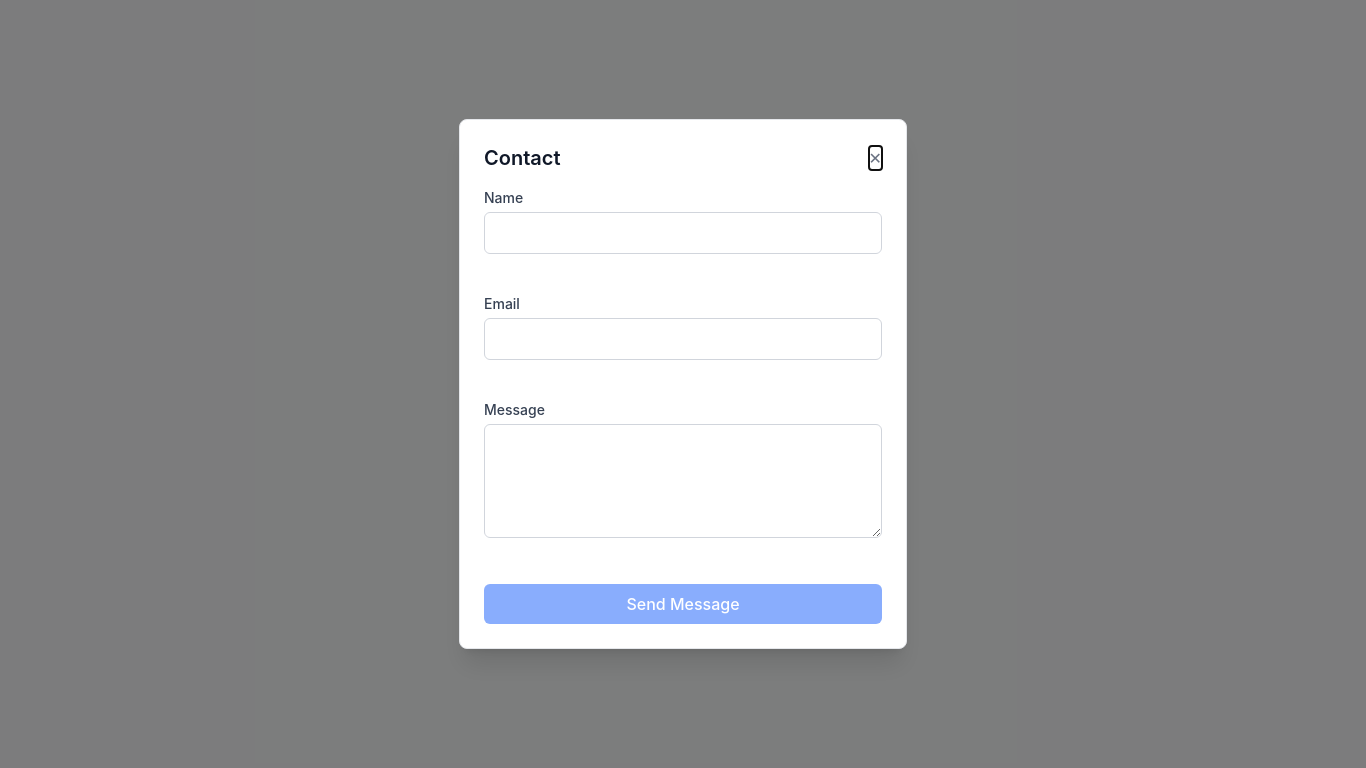
Test: ContactModal › submits form successfully with mock fetch
The image size is (1366, 768).
Type "Test User" into the field labelled "Name".
click(683, 233); type("Test User")  # box [484, 212, 882, 254]
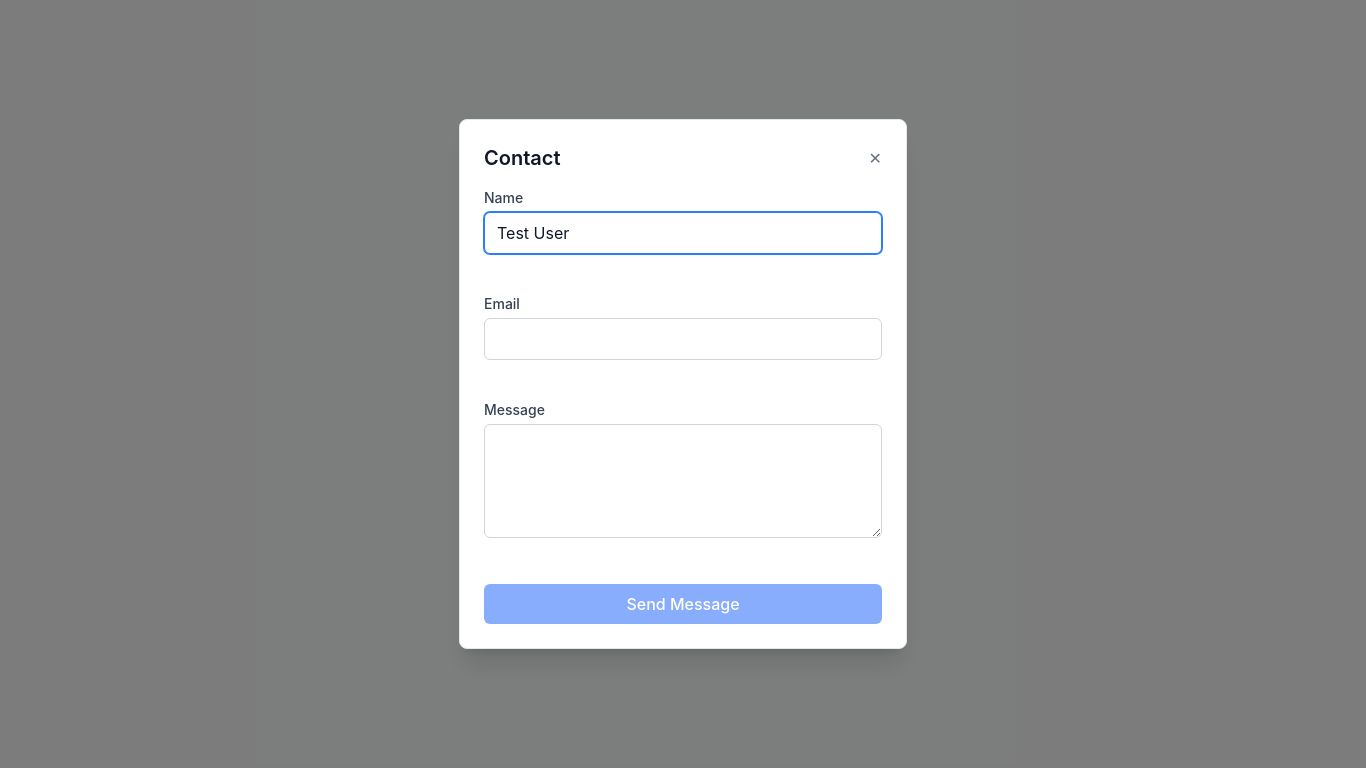
Type "test@example.com" into the field labelled "Email".
click(683, 339); type("test@example.com")  # box [484, 318, 882, 360]
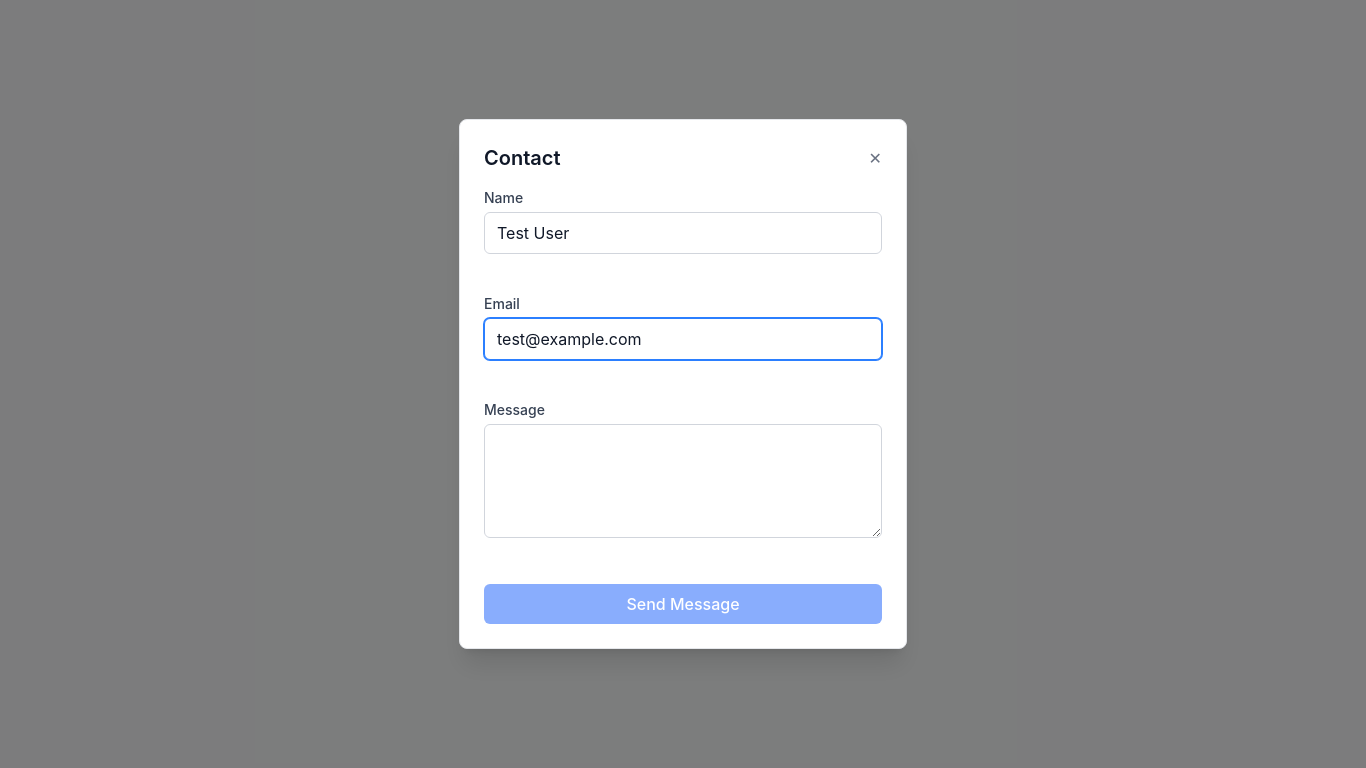
Type "Hello there" into the text box labelled "Message".
click(683, 481); type("Hello there")  # box [484, 424, 882, 538]
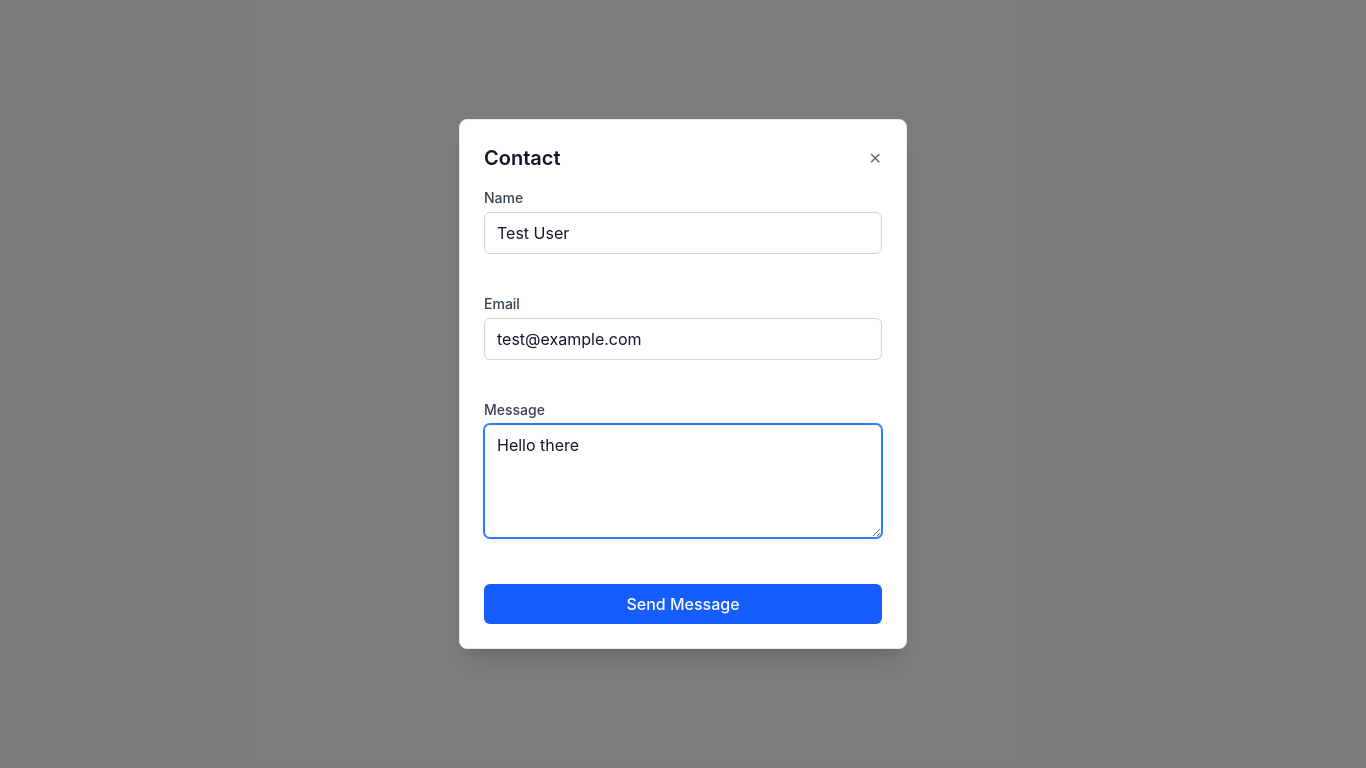
Click the button "Send Message".
click(683, 604)  # box [484, 584, 882, 624]
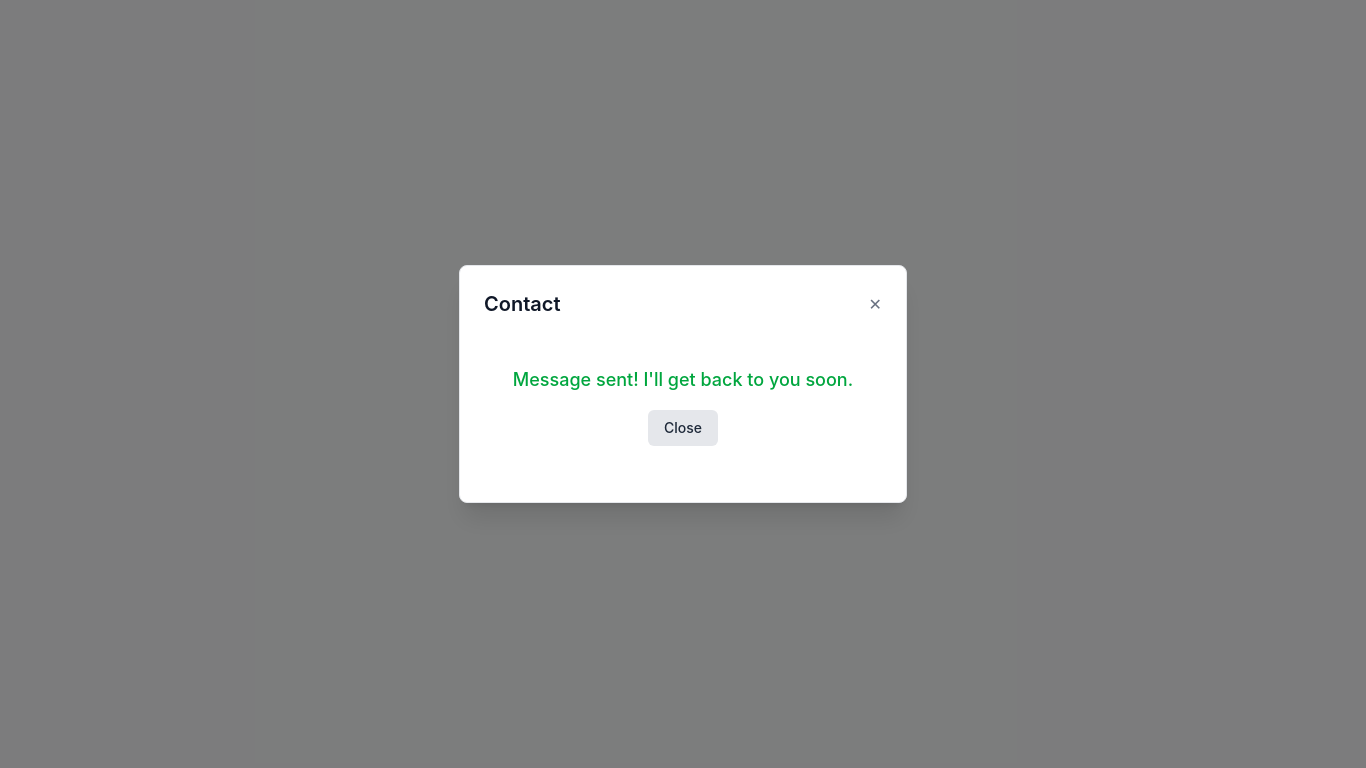
Expected: the text "Message sent! I'll get back to you soon." is shown, [484, 366, 882, 394]
